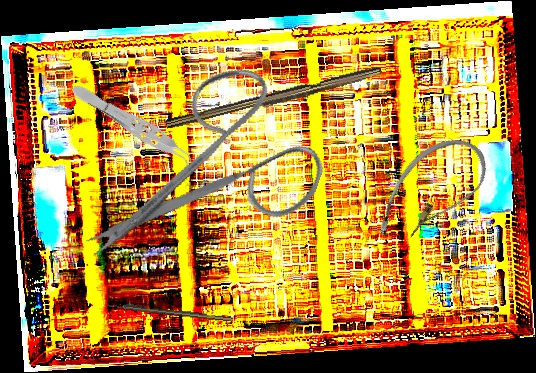Cannula: (364, 120, 499, 266)
Hook Surgical: (107, 301, 233, 323)
Iris Scissors: (81, 38, 346, 321)
Scalpel Handle: (164, 62, 384, 136)
Tissue Forceps: (66, 78, 204, 176)
